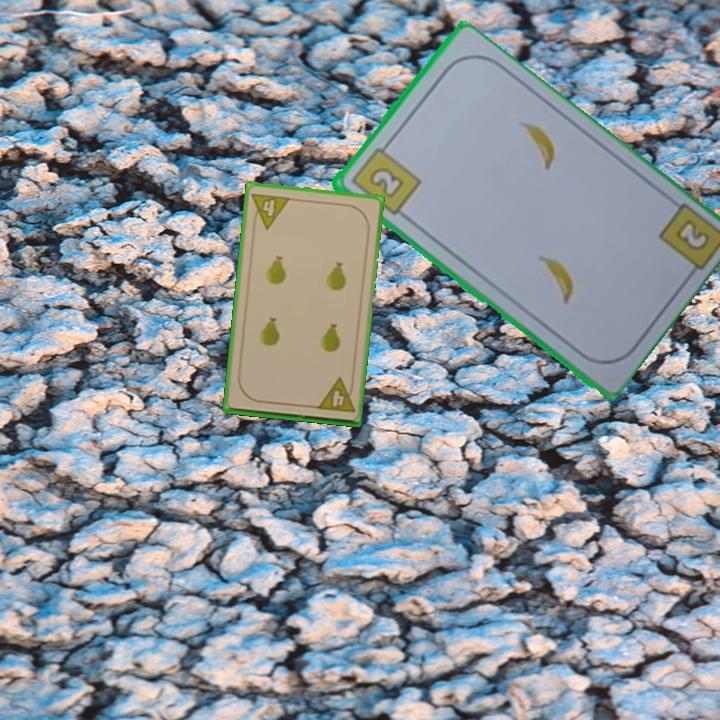2b: (347, 138, 423, 218), (675, 219, 709, 251)
4p: (248, 189, 293, 232), (313, 375, 358, 415)
